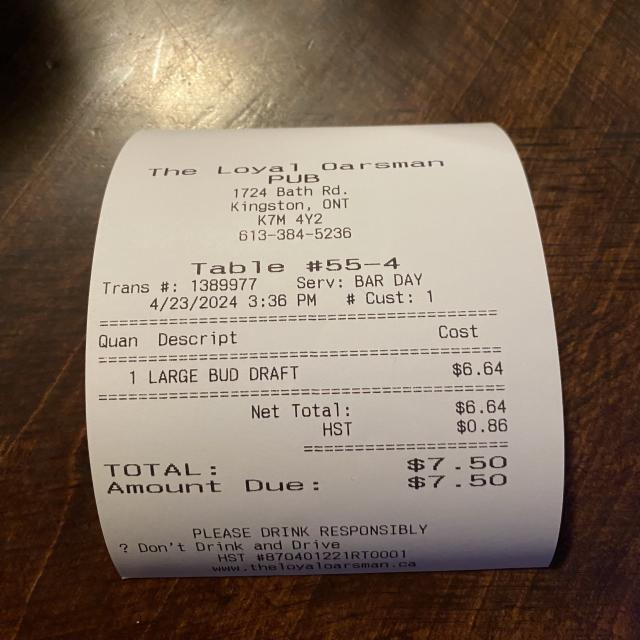item: (144, 356, 509, 388)
store_name: (135, 157, 458, 191)
total_amount: (100, 452, 520, 480)
transaction_date: (143, 290, 246, 320)
